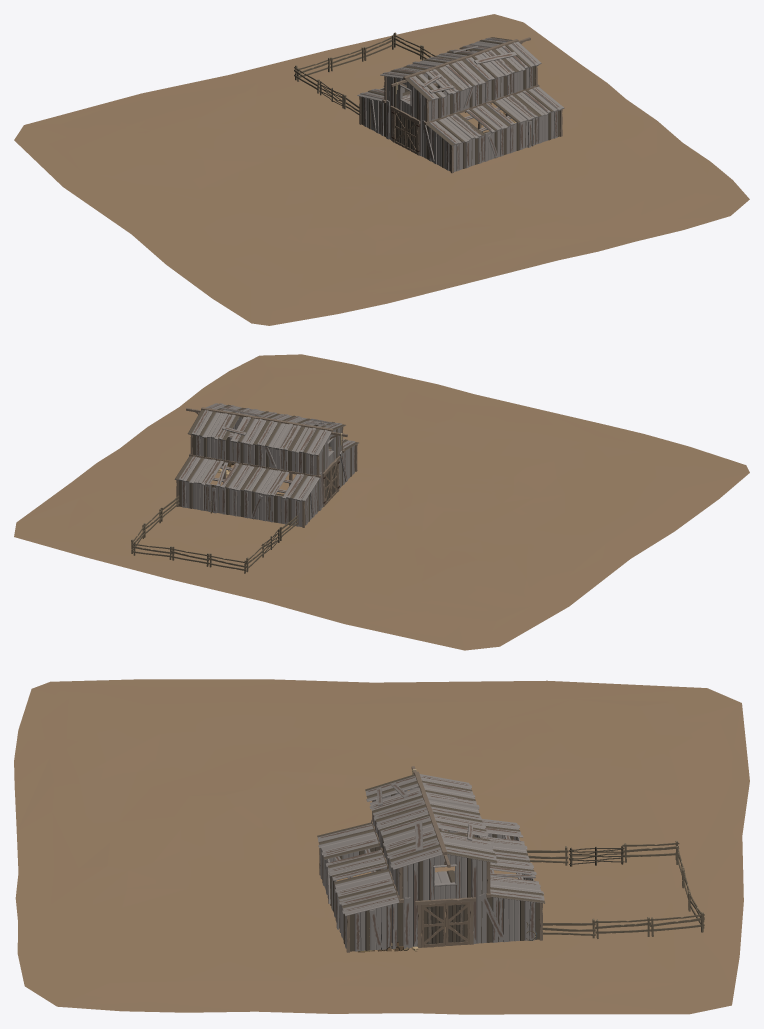
File: Stable.glb
3 views of the same model, one above another, from view 1: azimuth 30°, elevation 25°; view 2: azimuth 150°, elevation 25°; view 3: azimuth 270°, elevation 25° (orthographic). The views are drawn at different scales.
Parts seen in each view (by area): view 1: SM_Generic_Ground_Flat_01, SM_Bld_Barn_01; view 2: SM_Generic_Ground_Flat_01, SM_Bld_Barn_01; view 3: SM_Generic_Ground_Flat_01, SM_Bld_Barn_01, SM_Bld_Barn_Door_04, SM_Bld_Barn_Door_03, SM_Prop_Fence_Stick_01.
Boxes of the visible parts, x1=… form: SM_Generic_Ground_Flat_01: x1=14, y1=14, x2=749, y2=325; SM_Bld_Barn_01: x1=357, y1=37, x2=564, y2=173; SM_Generic_Ground_Flat_01: x1=14, y1=354, x2=749, y2=650; SM_Bld_Barn_01: x1=174, y1=403, x2=358, y2=527; SM_Generic_Ground_Flat_01: x1=14, y1=679, x2=749, y2=1014; SM_Bld_Barn_01: x1=317, y1=766, x2=544, y2=952; SM_Bld_Barn_Door_04: x1=421, y1=903, x2=445, y2=947; SM_Bld_Barn_Door_03: x1=445, y1=902, x2=469, y2=945; SM_Prop_Fence_Stick_01: x1=568, y1=845, x2=624, y2=866.
Bounding box in the file's own units: 46.2 × 6.35 × 42.83.
4 materials, 3 textured.
